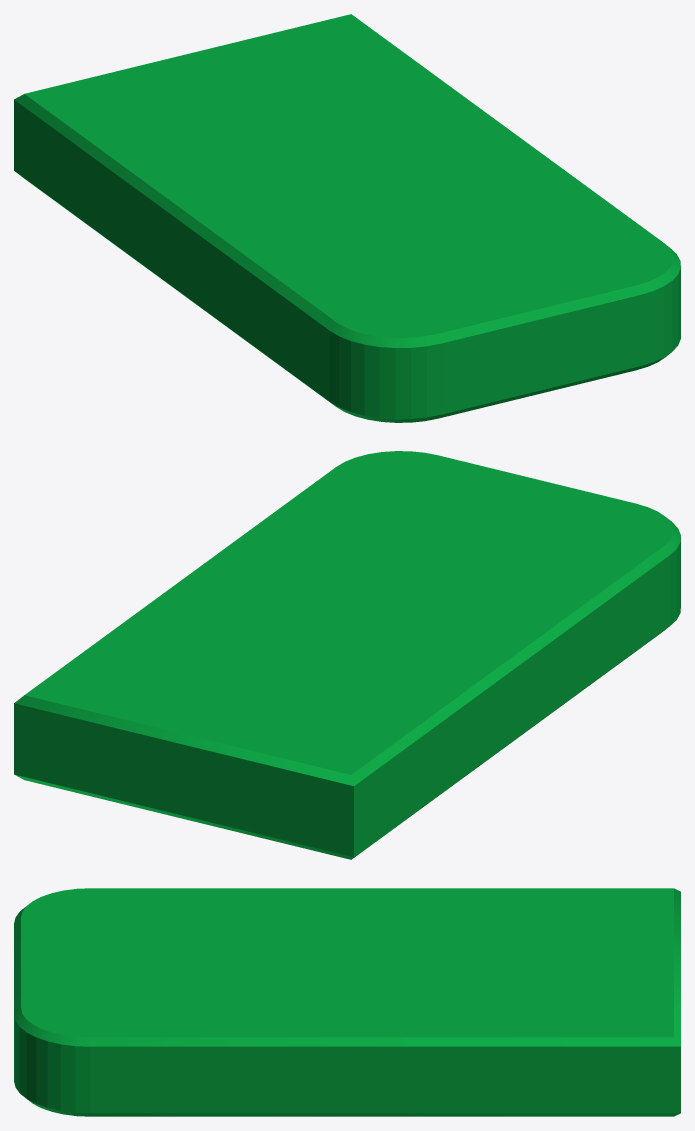
The model's file is side-board-green.fbx.
The picture shows the model from 3 angles, top to bottom: view 1: azimuth 30°, elevation 25°; view 2: azimuth 150°, elevation 25°; view 3: azimuth 270°, elevation 25°; orthographic projection. The views are drawn at different scales.
Visible parts, largest first — view 1: Cube.024; view 2: Cube.024; view 3: Cube.024.
Boxes of the visible parts, x1,y1,x2,y2 form: Cube.024: [14, 14, 680, 422]; Cube.024: [14, 451, 680, 859]; Cube.024: [14, 888, 680, 1116].
Bounding box in the file's own units: 82.52 × 19.69 × 150.
